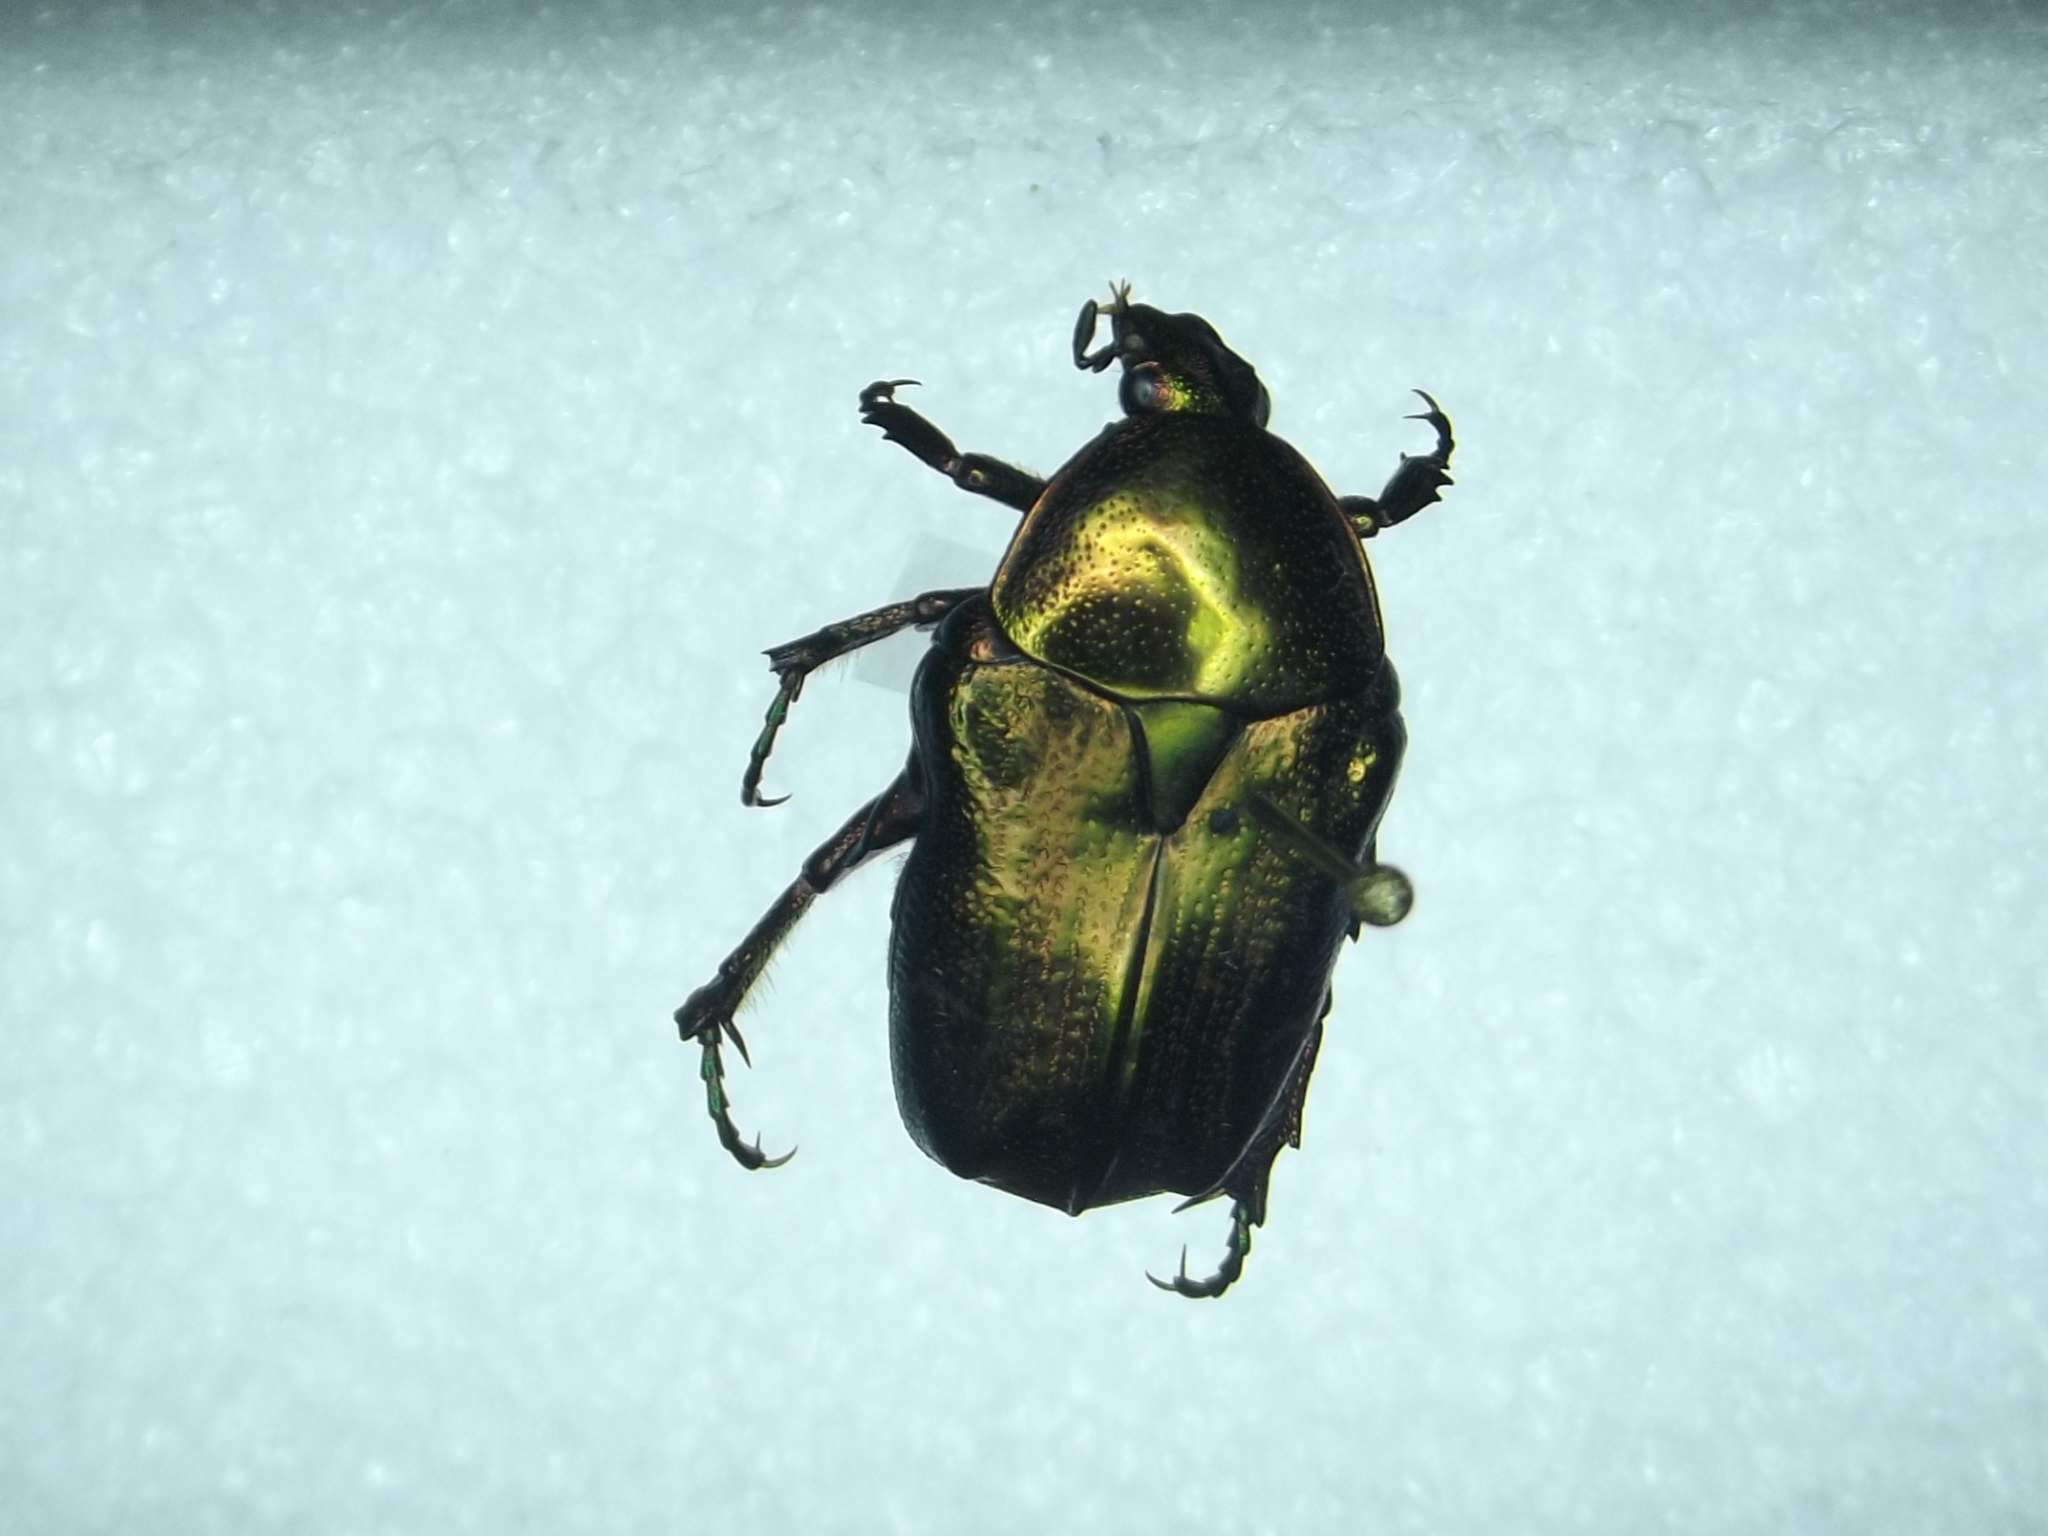Cetonia_aurata: (640, 257, 1467, 1305)
